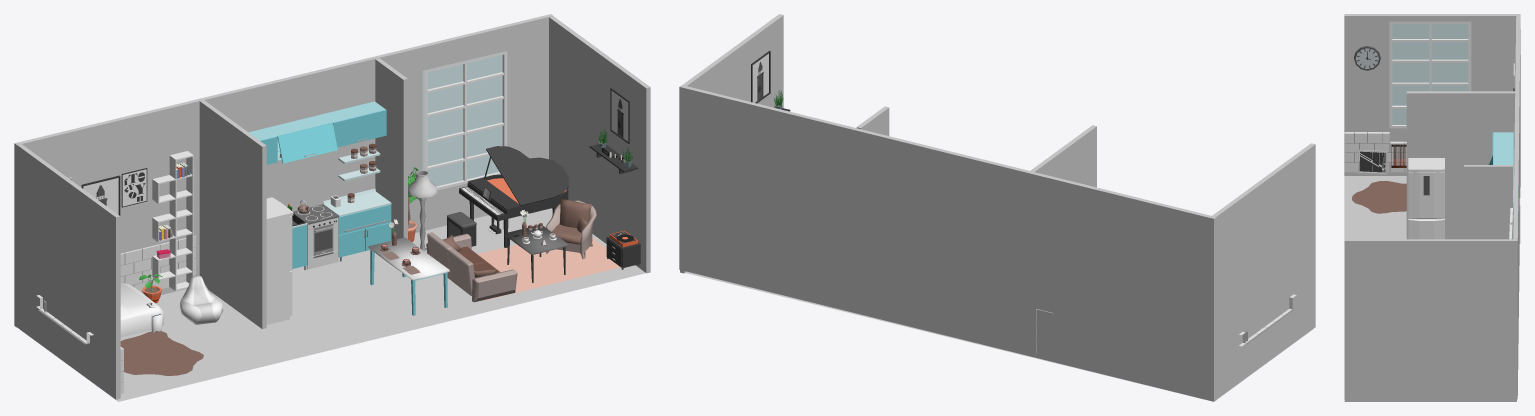
3 views of the same model, side by side, from view 1: azimuth 30°, elevation 25°; view 2: azimuth 150°, elevation 25°; view 3: azimuth 270°, elevation 25° (orthographic). The views are drawn at different scales.
Parts seen in each view (by area): view 1: Meubles, MurCote, MurFond, Sol; view 2: MurFond, MurCote, Meubles, Sol; view 3: MurCote, Meubles, Sol, MurFond.
Part boxes in pixels (x1,y1,x2,y2): Meubles: [36, 51, 640, 393]; MurCote: [15, 16, 650, 399]; MurFond: [14, 14, 553, 327]; Sol: [20, 208, 646, 401]; MurFond: [679, 85, 1216, 401]; MurCote: [680, 14, 1315, 399]; Meubles: [751, 50, 1296, 353]; Sol: [684, 271, 1312, 401]; MurCote: [1344, 14, 1520, 401]; Meubles: [1344, 21, 1520, 243]; Sol: [1344, 174, 1406, 399]; MurFond: [1513, 16, 1520, 399].
Size of the model in its own units: 12.66 by 4.16 by 4.12.
Materials: 4 (4 with a texture image).
